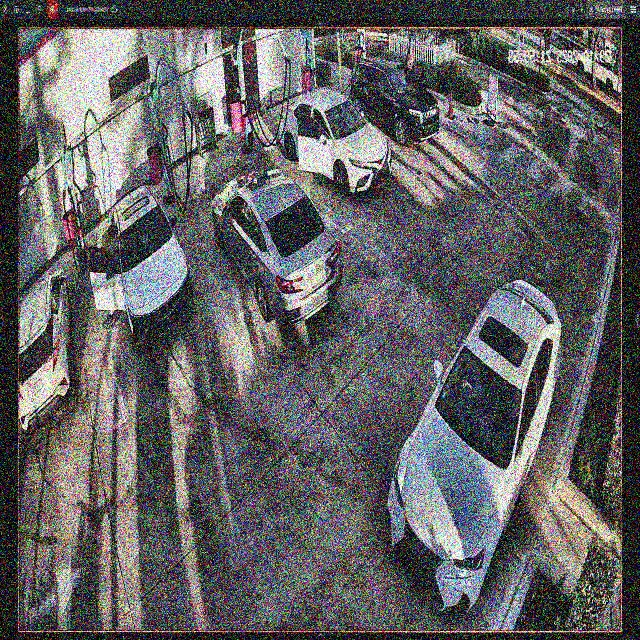Car: (386, 277, 561, 614), (213, 168, 341, 322), (88, 187, 192, 345), (280, 90, 389, 193), (348, 57, 438, 146)
